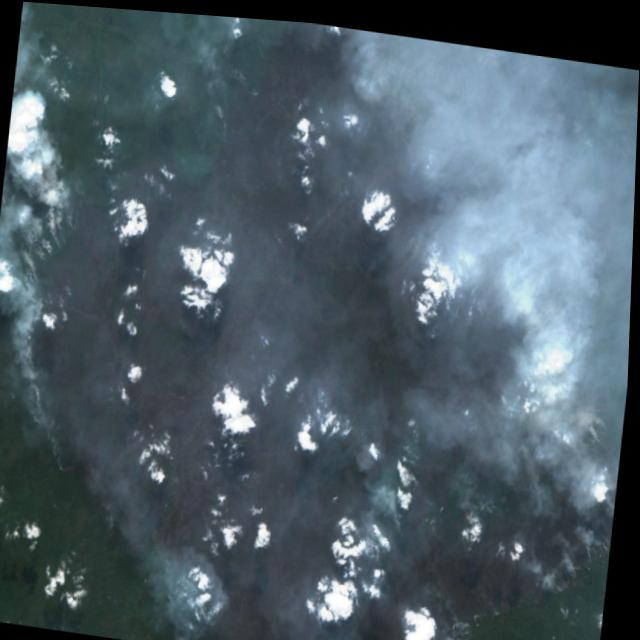fire: (530, 484, 618, 604), (21, 175, 78, 328), (10, 359, 76, 469), (220, 52, 273, 111), (437, 598, 478, 640)
